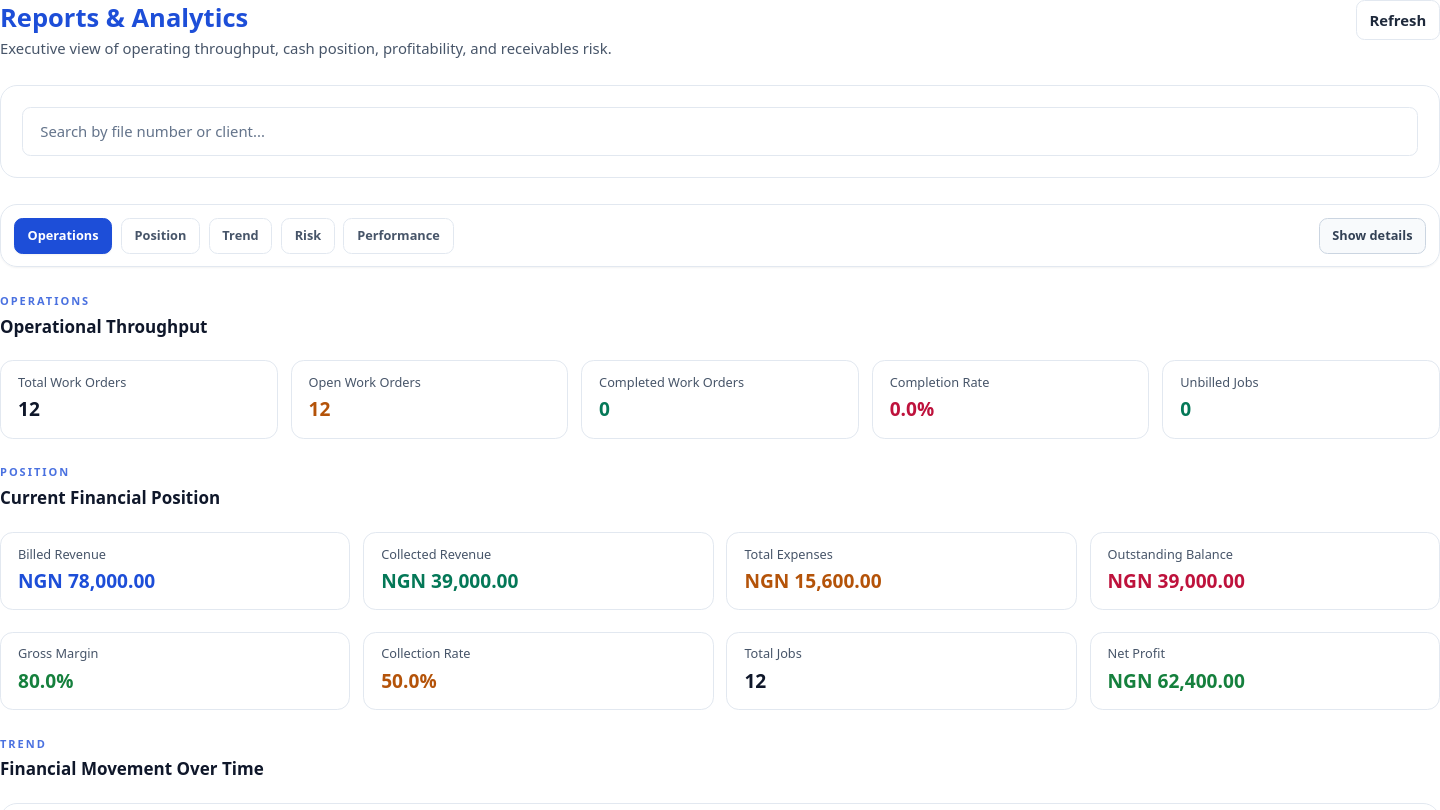
Test case: ReportPage interaction › paginates expenses breakdown modal
The image size is (1440, 810).
Click the button "Total Expenses NGN 15,600.00". click: (789,554)
box: [726,532,1077,610]
(page scrolled)
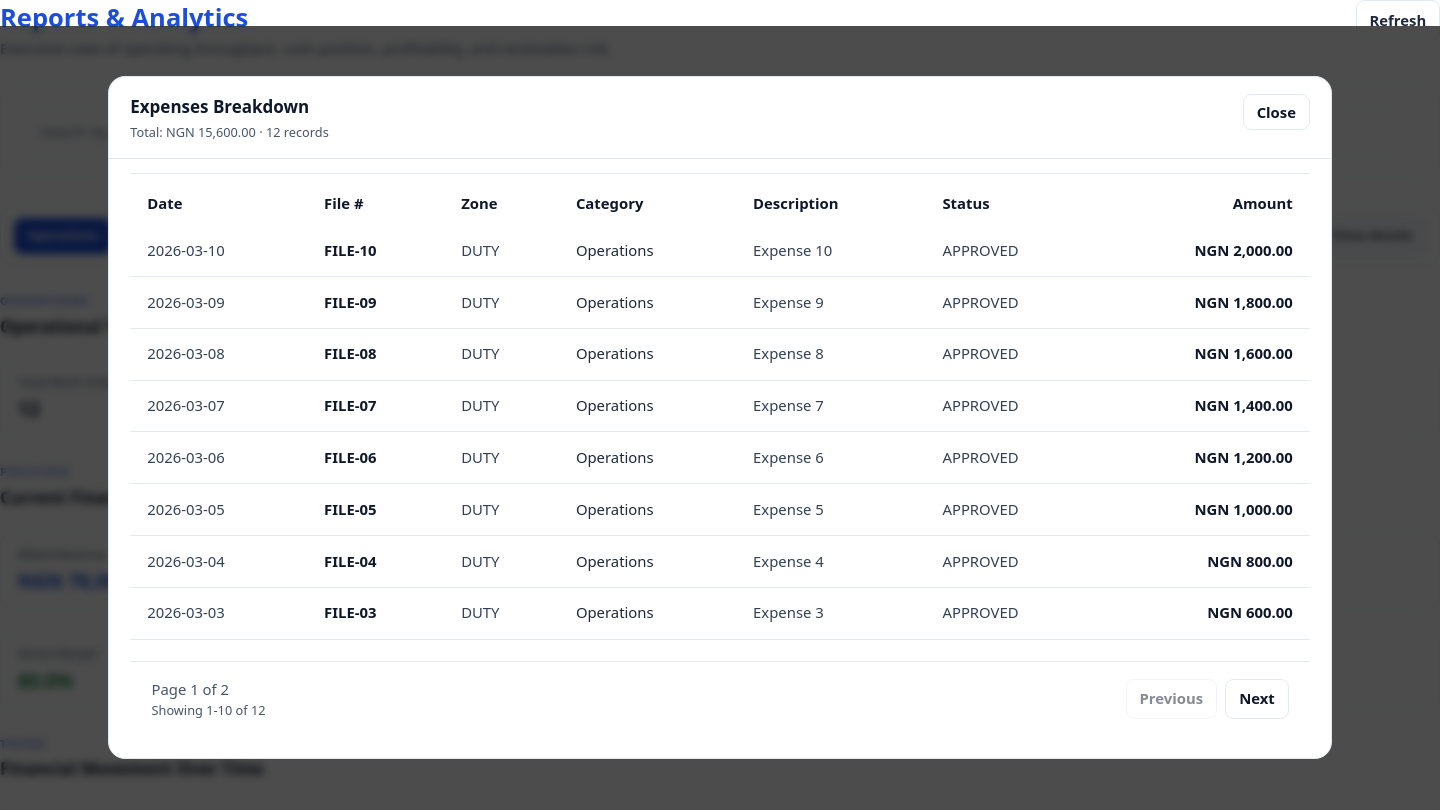
Check: the element "Expenses Breakdown" is shown
Check: the text "Page 1 of 2" is shown, box [152,679,229,699]
Check: the text "Showing 1-10 of 12" is shown, box [152,702,266,719]
Click the button "Next". click: (1257,699)
box: [1225,679,1288,719]
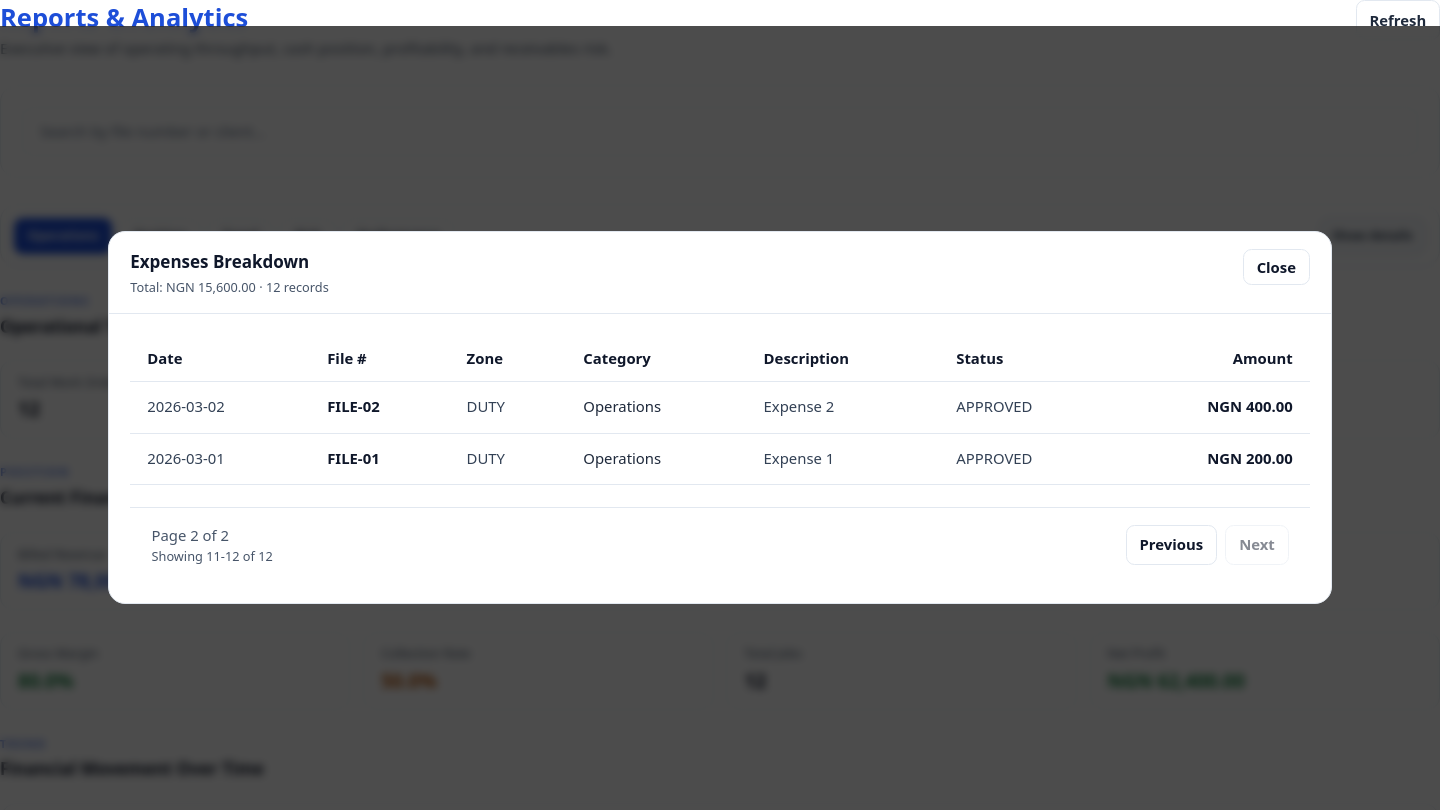
Check: the text "Expense 1" is shown, box [747,433,939,485]
Check: the text "Page 2 of 2" is shown, box [152,525,229,545]
Check: the text "Showing 11-12 of 12" is shown, box [152,548,273,565]
